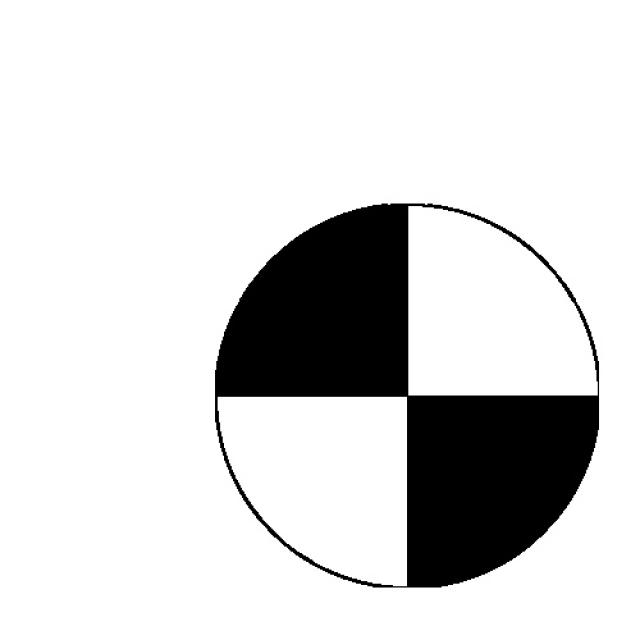Marcadores: (215, 204, 599, 589)
